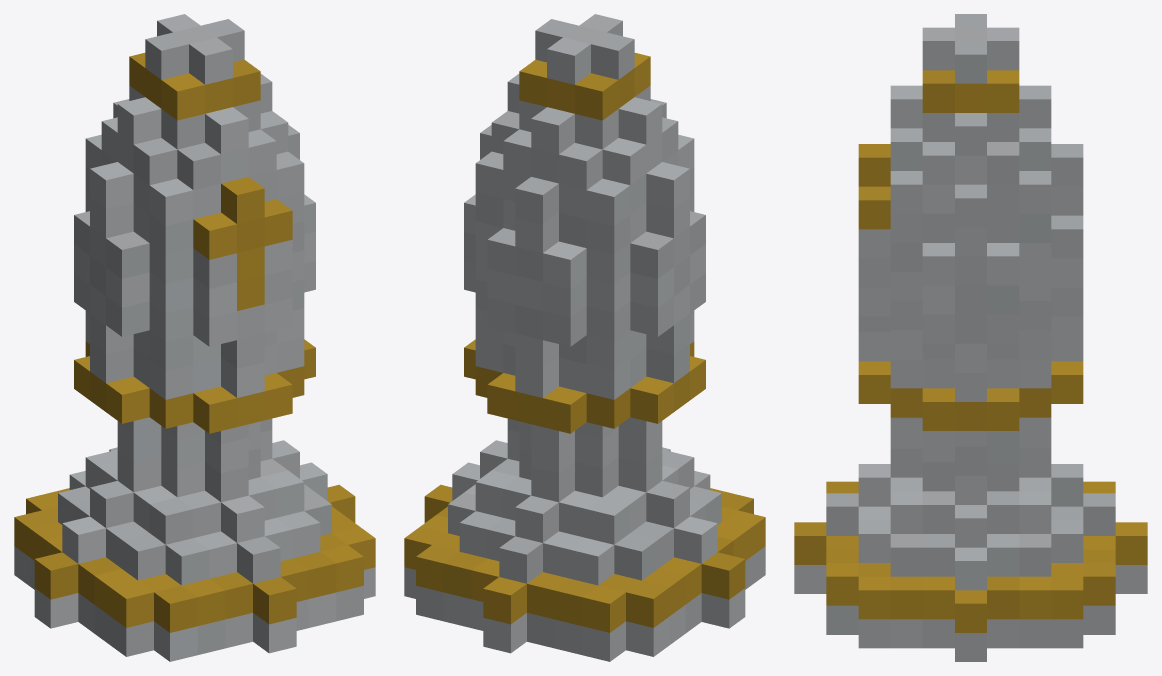
The model's file is white_bishop.glb.
3 views of the same model, side by side, from view 1: azimuth 30°, elevation 25°; view 2: azimuth 150°, elevation 25°; view 3: azimuth 270°, elevation 25° (orthographic).
Size of the model in its own units: 1.1 by 1.9 by 1.1.
